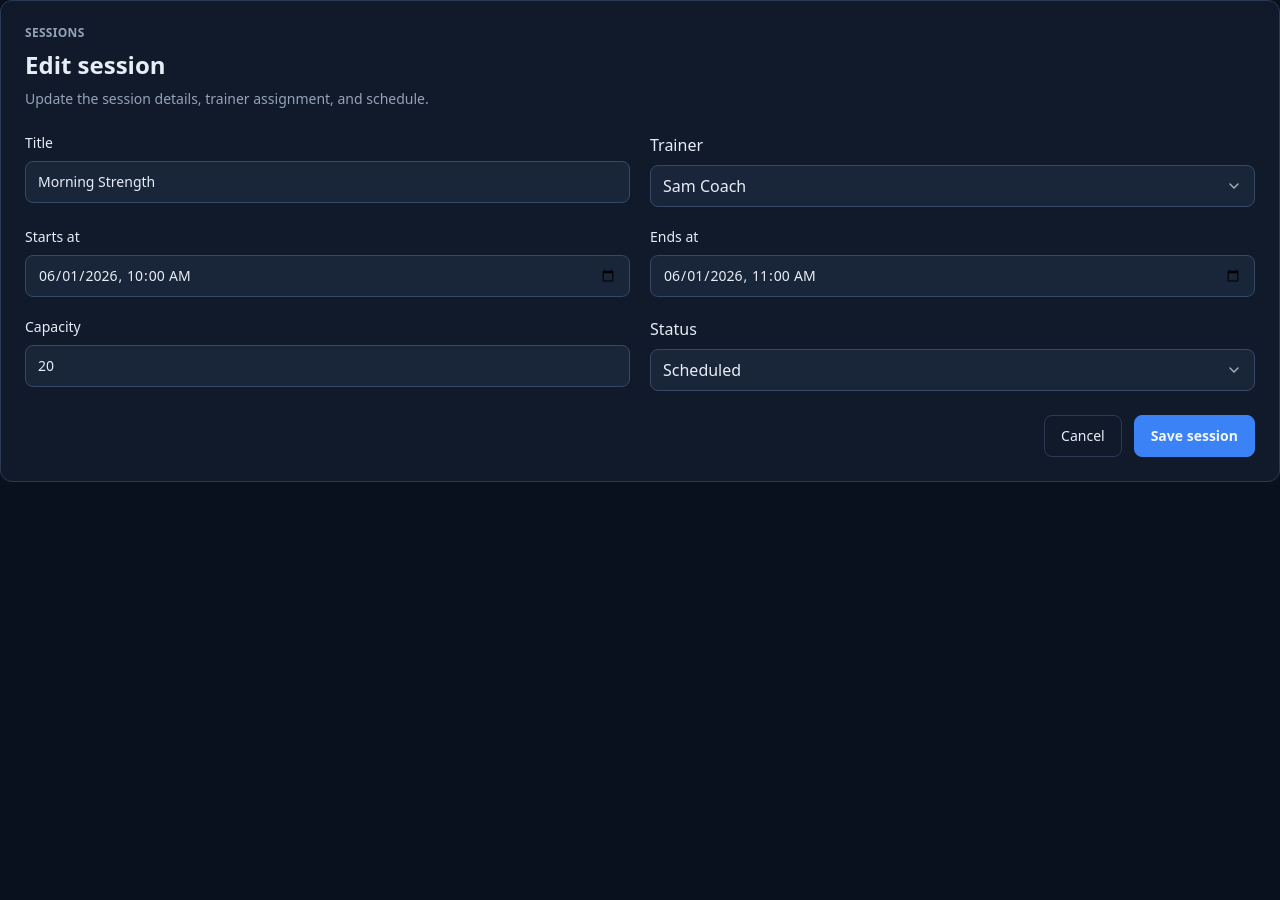
Scenario: EditSessionForm › renders validation errors returned by the action
Step 1. Click the button "Save session" → (1194, 436), box x1=1134 y1=415 x2=1255 y2=457
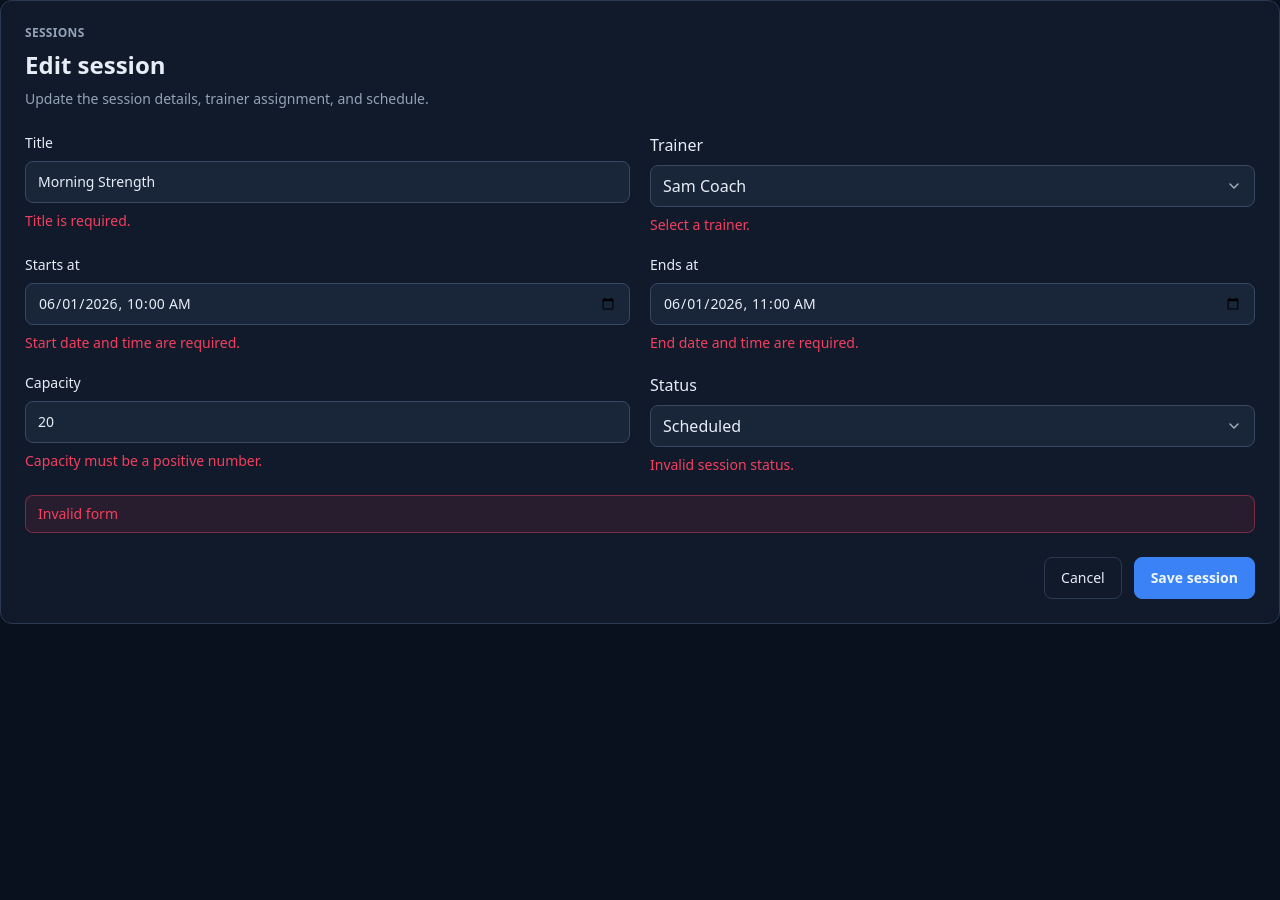
expect the text "Title is required." is shown: met, box x1=25 y1=211 x2=131 y2=230
expect the text "Select a trainer." is shown: met, box x1=650 y1=215 x2=750 y2=234
expect the text "Start date and time are required." is shown: met, box x1=25 y1=333 x2=240 y2=352
